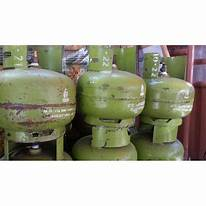gas_ijo: (1, 45, 76, 142), (79, 45, 146, 126), (135, 52, 194, 128), (76, 126, 138, 161), (136, 122, 185, 162)
